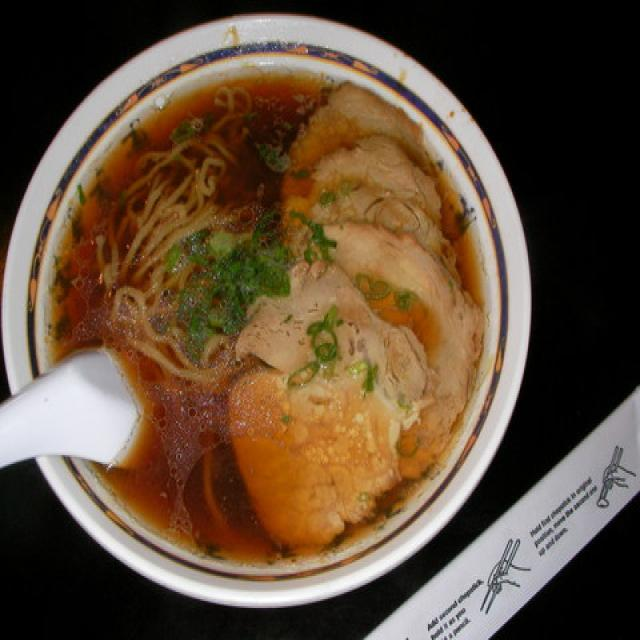面条主食: (60, 85, 480, 507)
